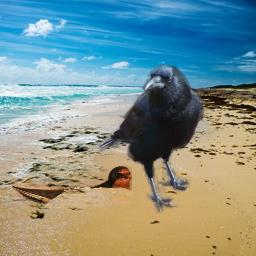Crow: (89, 58, 205, 215)
Swallow: (12, 165, 132, 208)
